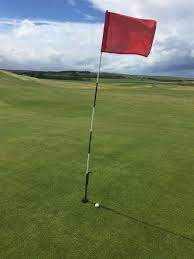Flag: (100, 10, 158, 58)
